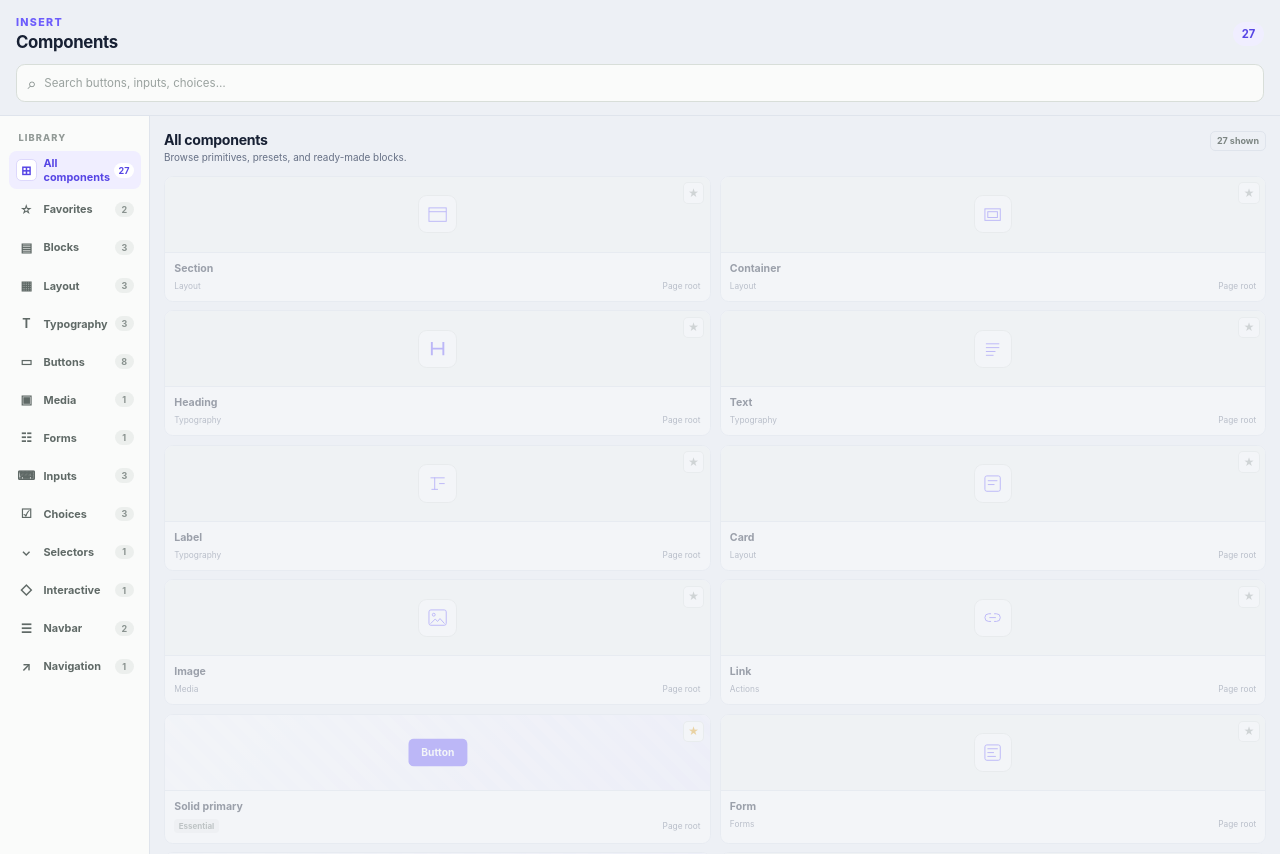
ComponentLibrary › search › should find Dropdown and Checkbox Group for the shared select term
In the search field named "Search components": (649, 83) [44,65,1253,101], type "select"
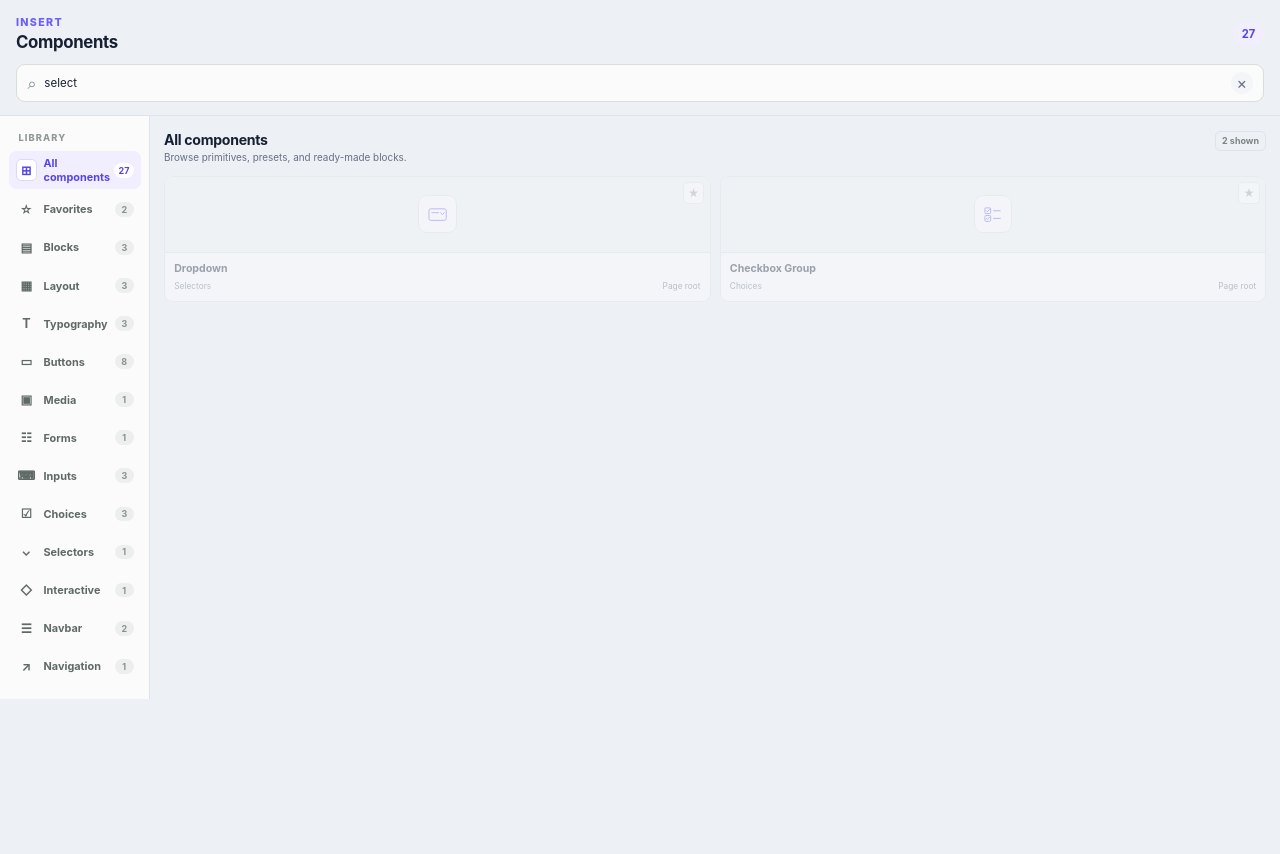
Expected: the button with aria-label "Add Dropdown" is shown, [165,177,710,300]
Expected: the number of buttons named "Add " is 2, [165,177,710,300]; [721,177,1265,300]
